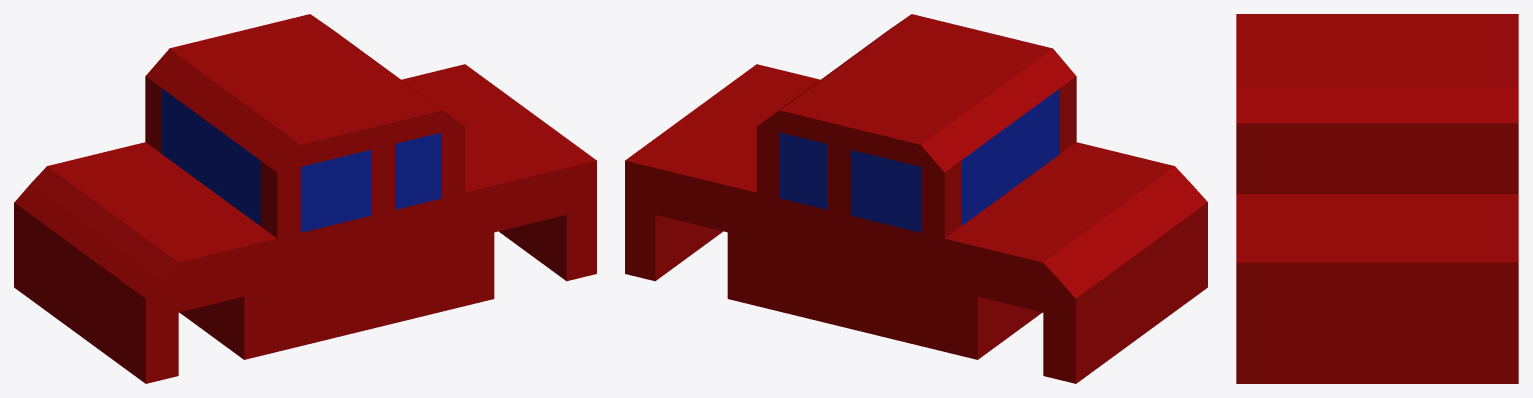
Rendered from Body.obj.
3 renders of one model, left to right at view 1: azimuth 30°, elevation 25°; view 2: azimuth 150°, elevation 25°; view 3: azimuth 270°, elevation 25°, orthographic. The views are drawn at different scales.
Visible parts, largest first — view 1: Cube.009_Cube.010; view 2: Cube.009_Cube.010; view 3: Cube.009_Cube.010.
Part boxes in pixels (bbox=[...]): Cube.009_Cube.010: bbox=[14, 14, 596, 383]; Cube.009_Cube.010: bbox=[625, 14, 1207, 383]; Cube.009_Cube.010: bbox=[1236, 14, 1518, 383].
Size of the model in its own units: 3.95 by 1.69 by 2.
